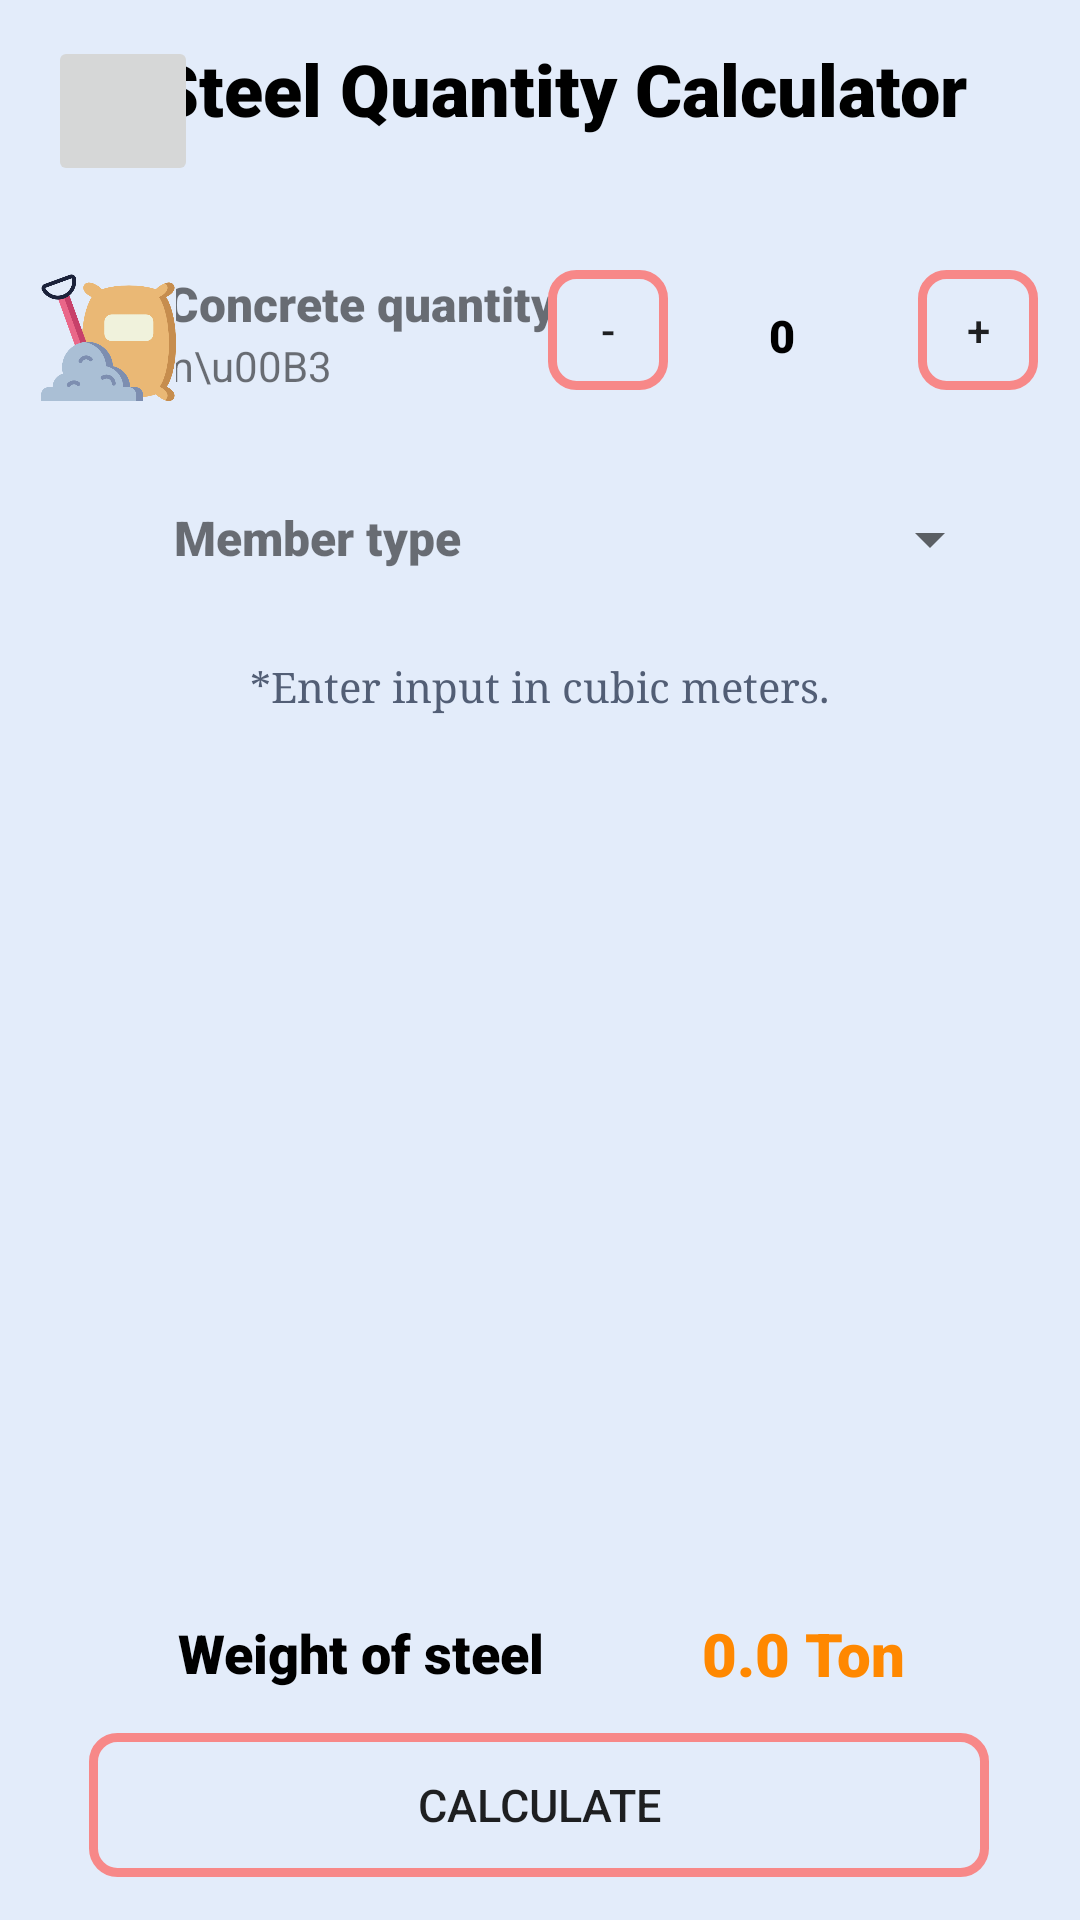

Where to tap for icons on this 1080px×1920px app screen, as (x=x, y=y):
cement: (x=108, y=337)
